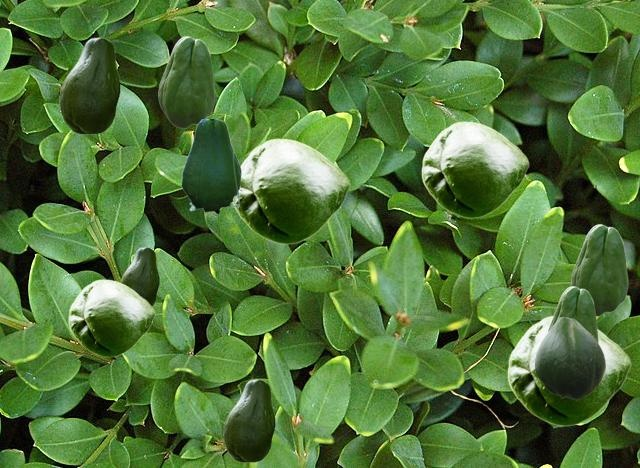sayote: (507, 315, 630, 425), (234, 138, 349, 243), (421, 121, 528, 217), (68, 279, 154, 356), (181, 119, 242, 215), (59, 37, 119, 133), (535, 317, 604, 399), (571, 224, 627, 315), (158, 36, 214, 127), (223, 379, 274, 461), (547, 286, 597, 340), (119, 247, 158, 306)
